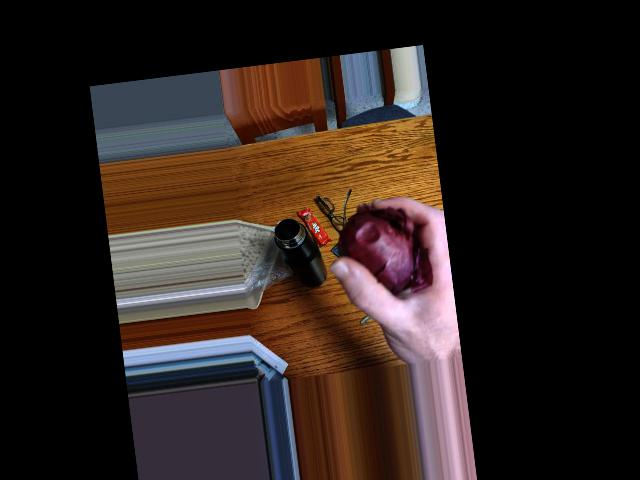onion: (333, 205, 425, 300)
